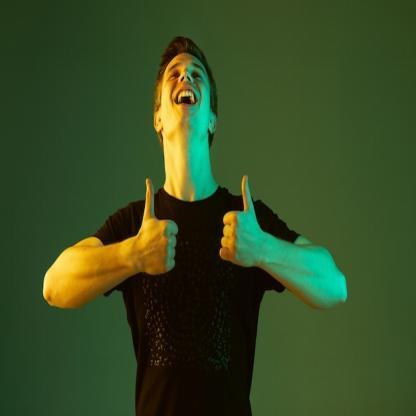thumb_up: (130, 175, 180, 279), (218, 171, 264, 270)
